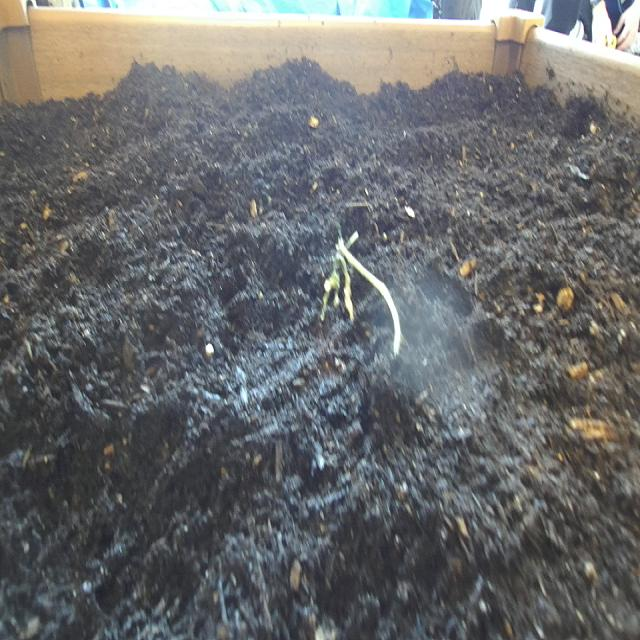Unhealthy: (319, 218, 412, 378)
